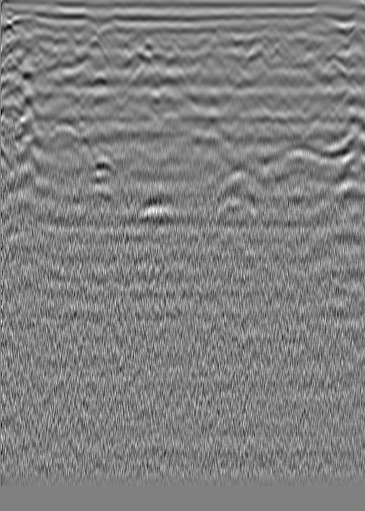가스: (85, 178, 115, 209)
상수: (295, 41, 312, 62)
오수: (36, 30, 56, 50)
우수: (182, 30, 202, 50)
